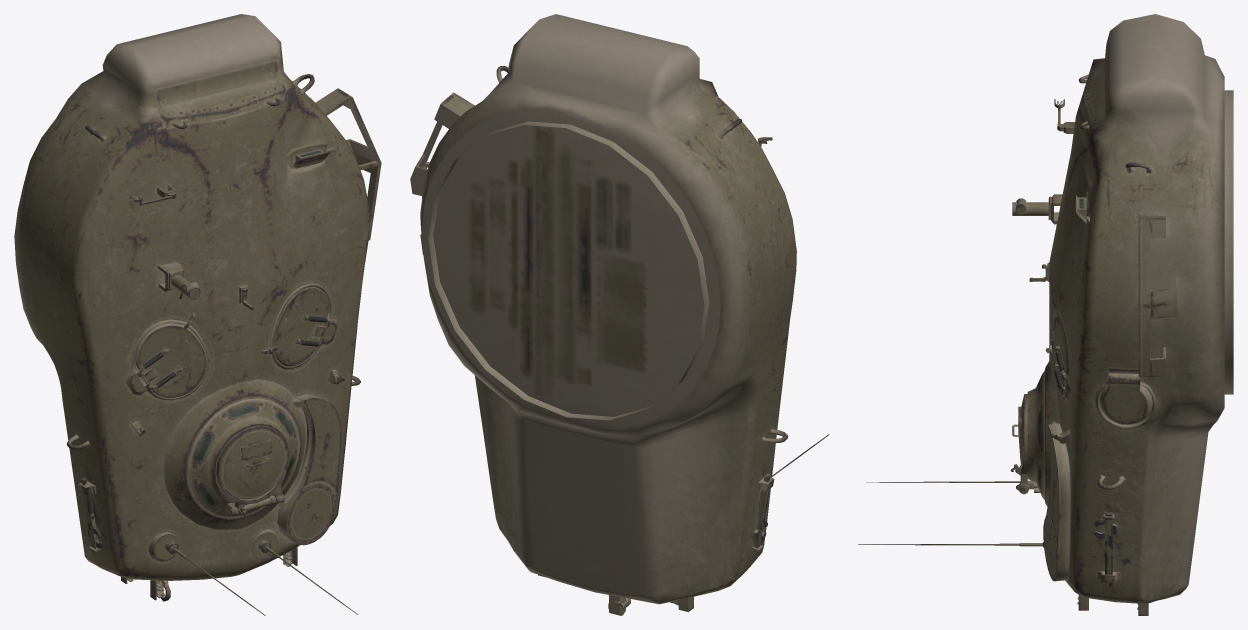
File: Turret_01.glb
3 views of the same model, side by side, from view 1: azimuth 30°, elevation 25°; view 2: azimuth 150°, elevation 25°; view 3: azimuth 270°, elevation 25° (orthographic). The views are drawn at different scales.
Parts seen in each view (by area): view 1: set_0_group_0; view 2: set_0_group_0; view 3: set_0_group_0.
Boxes of the visible parts, x1,y1,x2,y2 form: set_0_group_0: (14,14,381,615); set_0_group_0: (410,14,829,615); set_0_group_0: (858,14,1233,615).
Bounding box in the file's own units: 2.84 × 4.37 × 2.7.
1 material, 1 textured.
